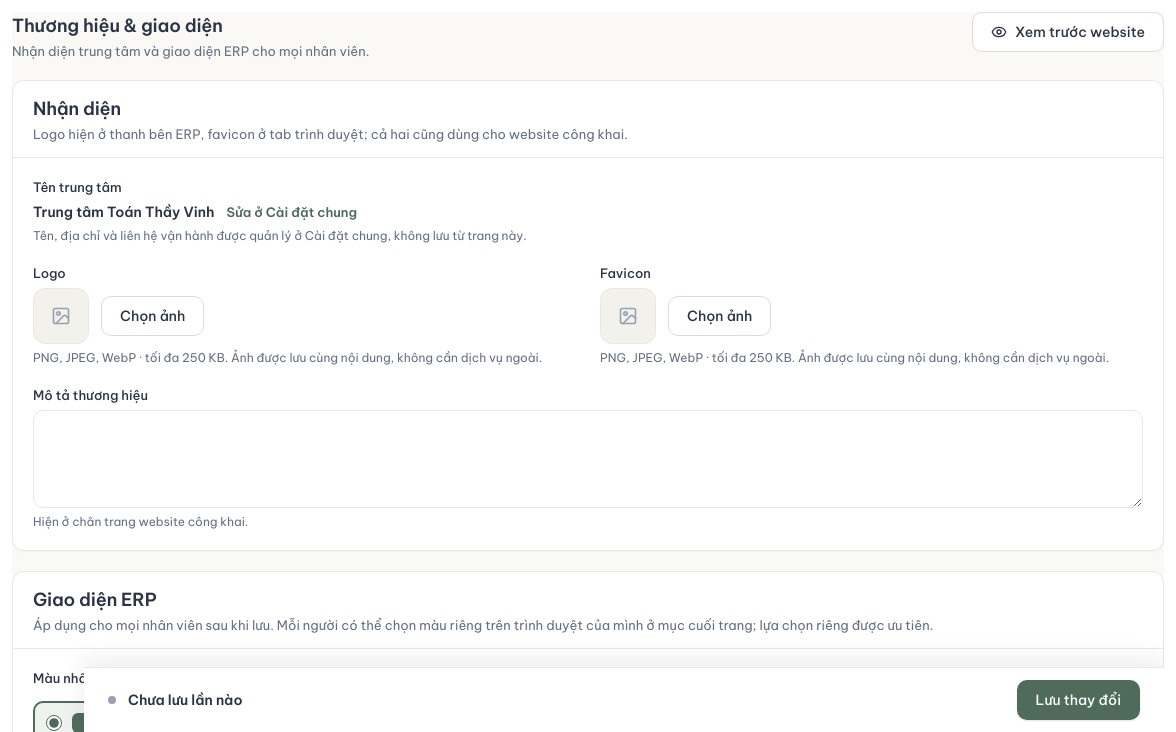
Test: branding page › lets a never-saved configuration be saved while clean
Expected: the element named "Thanh lưu thay đổi" shows "Chưa lưu lần nào", [128, 691, 242, 709]
Click the button "Lưu thay đổi".
click(1078, 700)  # box [1017, 680, 1140, 720]
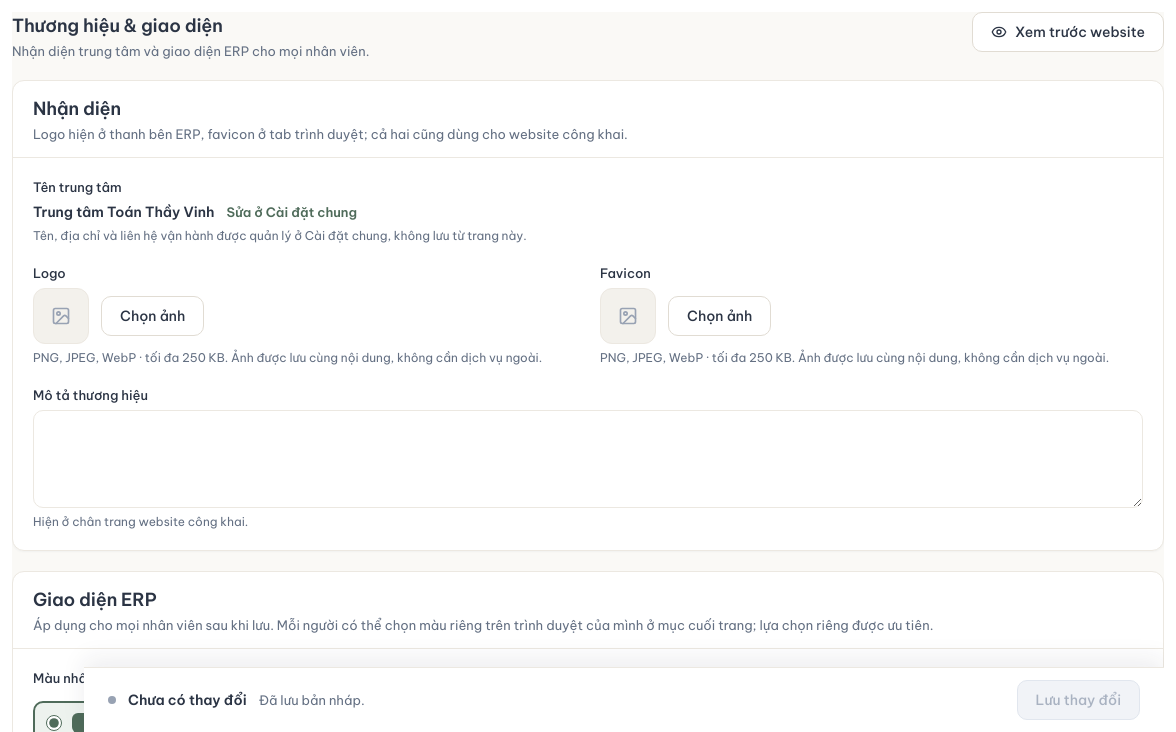
Expected: the message reads "Đã lưu bản nháp.", [259, 692, 365, 708]
Expected: the button "Lưu thay đổi" is disabled, [1017, 680, 1140, 720]
